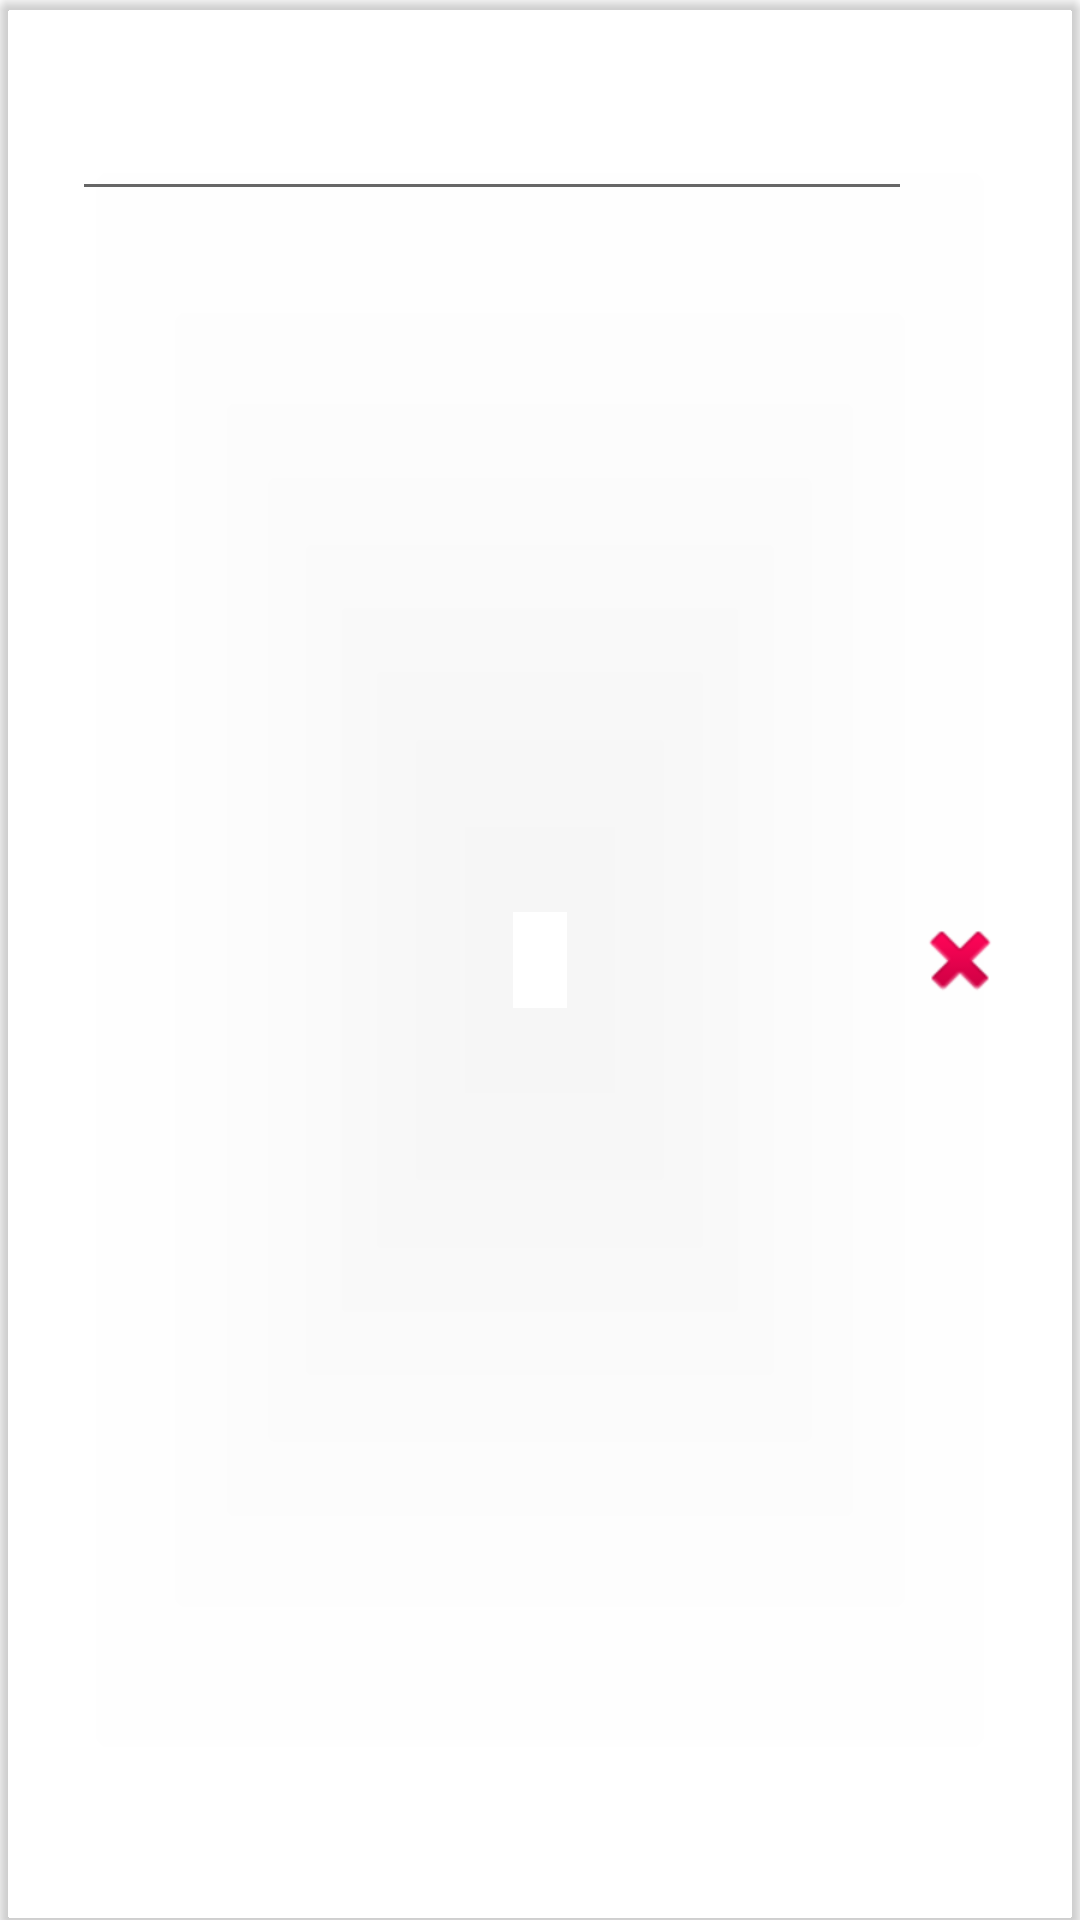

Icons on this 1080px x 1920px Android screen, each with the point to tap as [x,y]:
delete: [960,960]
